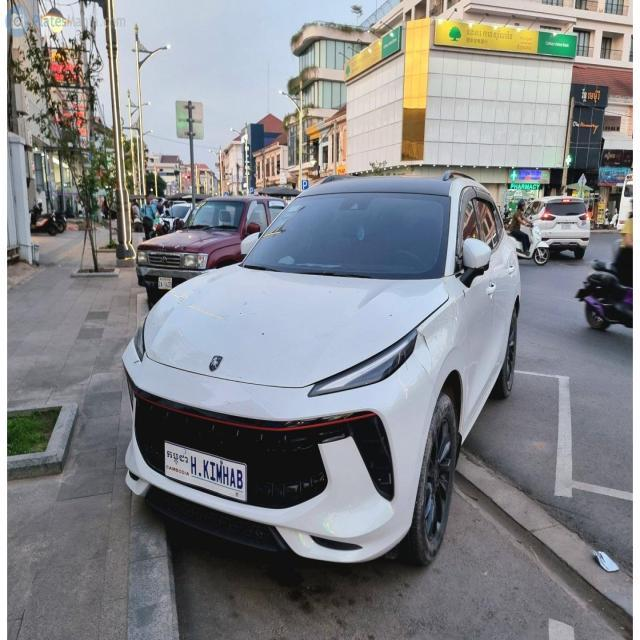Cambodia: (167, 447, 190, 468)
